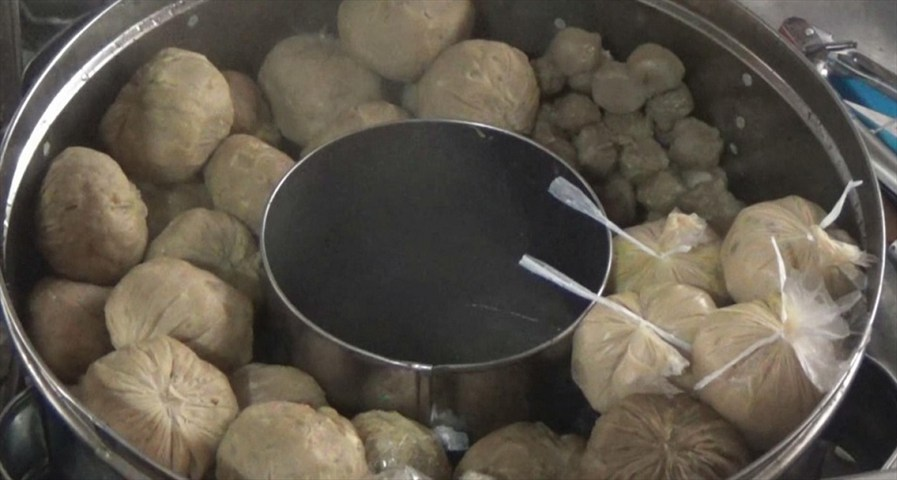Bakso: (27, 39, 870, 449)
